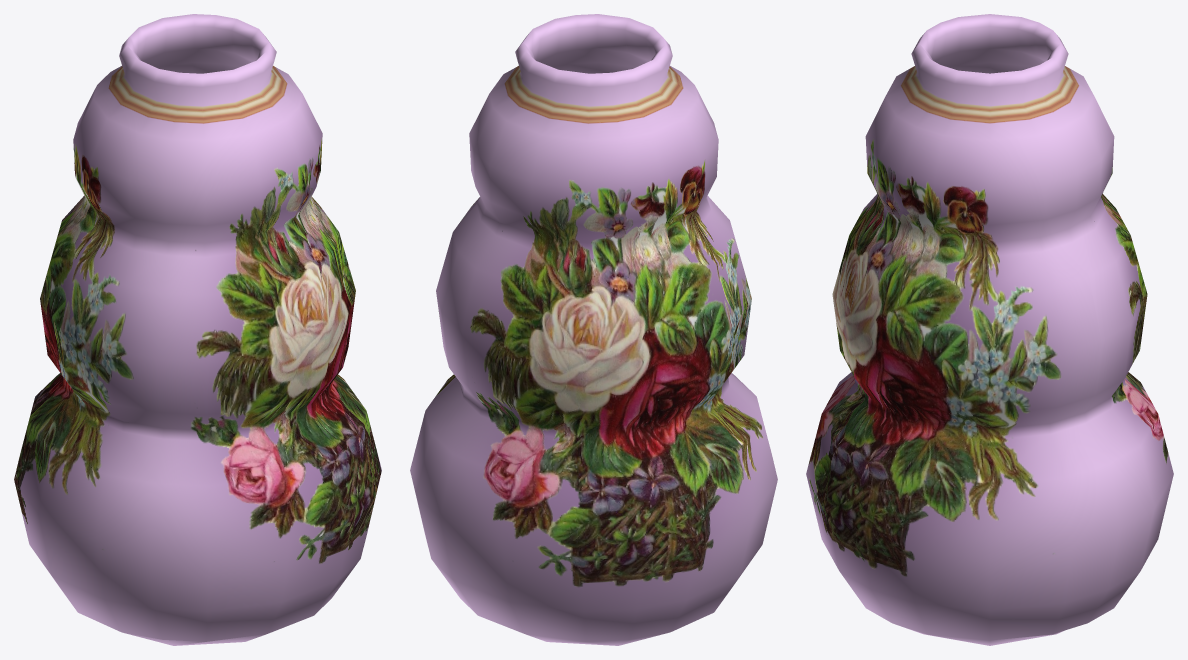
The model's file is JVase_14.fbx.
3 renders of one model, left to right at view 1: azimuth 30°, elevation 25°; view 2: azimuth 150°, elevation 25°; view 3: azimuth 270°, elevation 25°, orthographic.
Visible parts, largest first — view 1: JVase_14; view 2: JVase_14; view 3: JVase_14.
Boxes of the visible parts, x1,y1,x2,y2 form: JVase_14: (14,14,381,645); JVase_14: (410,14,777,645); JVase_14: (806,14,1173,645).
Size of the model in its own units: 58.58 by 98.85 by 58.58.
